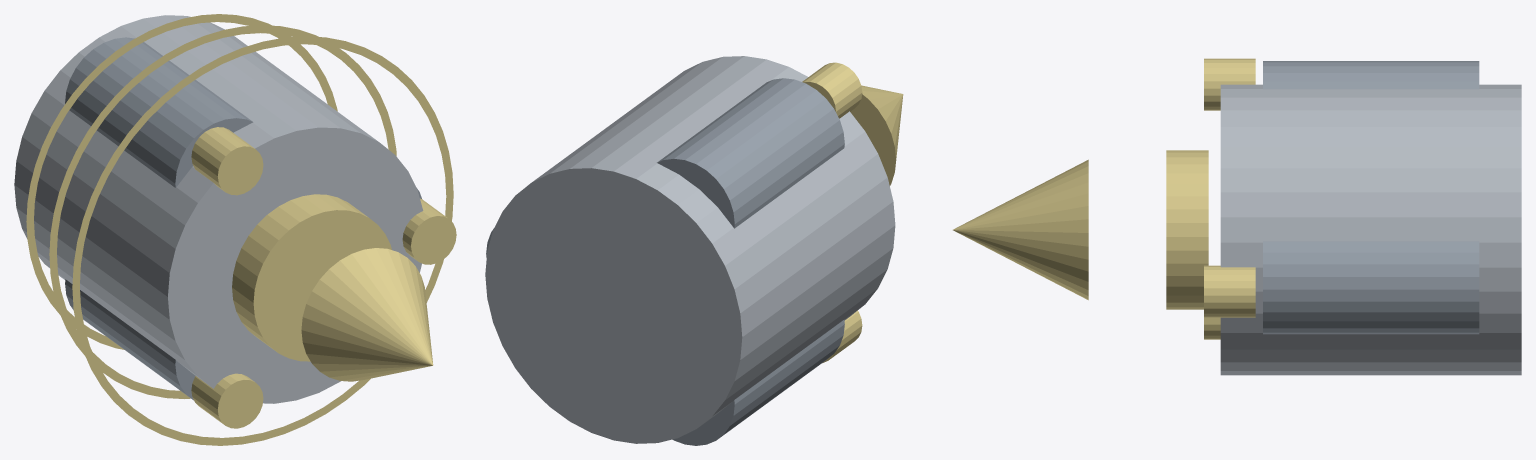
The model's file is thr-6.glb.
3 renders of one model, left to right at view 1: azimuth 30°, elevation 25°; view 2: azimuth 150°, elevation 25°; view 3: azimuth 270°, elevation 25°, orthographic.
Visible parts, largest first — view 1: part000, part009, part002, part005, part012, part011, part010, part006, part007, part008, part004; view 2: part000, part005, part007, part009, part006, part008; view 3: part000, part003, part009, part002, part005, part004, part006.
Boxes of the visible parts, x1,y1,x2,y2 form: part000: (14, 15, 423, 403); part009: (301, 248, 433, 381); part002: (232, 194, 391, 361); part005: (65, 37, 253, 187); part012: (72, 36, 453, 445); part011: (49, 25, 396, 398); part010: (26, 14, 337, 349); part006: (191, 127, 263, 195); part007: (65, 279, 195, 400); part008: (191, 373, 263, 428); part004: (402, 198, 456, 264); part000: (485, 56, 895, 443); part005: (657, 78, 844, 228); part007: (672, 320, 844, 445); part009: (850, 85, 903, 185); part006: (802, 62, 862, 118); part008: (822, 310, 862, 363); part000: (1220, 84, 1521, 375); part003: (1263, 241, 1479, 334); part009: (953, 159, 1088, 300); part002: (1166, 150, 1208, 309); part005: (1263, 61, 1479, 89); part004: (1204, 265, 1255, 317); part006: (1204, 58, 1255, 110).
Size of the model in its own units: 1.84 by 1.84 by 2.42.
